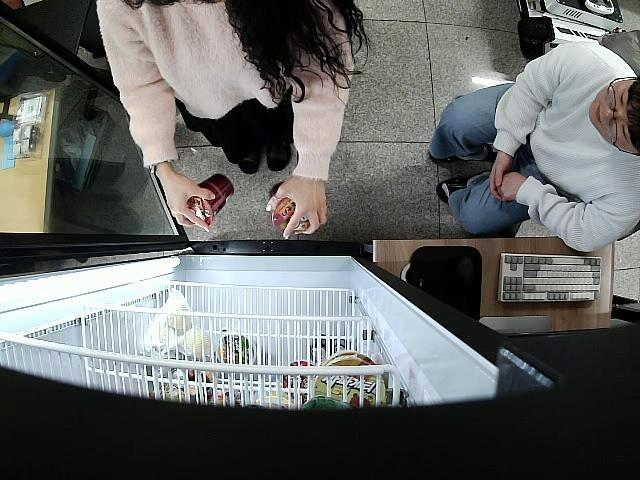06_nuguri_S: (268, 181, 312, 234), (187, 175, 234, 224)
